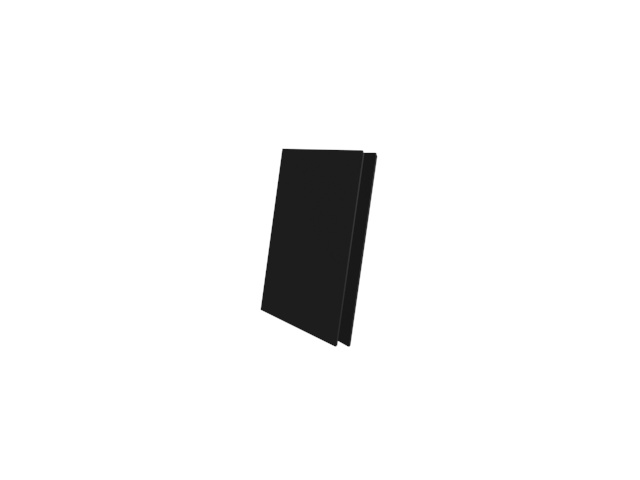ring_binder: (257, 145, 384, 352)
